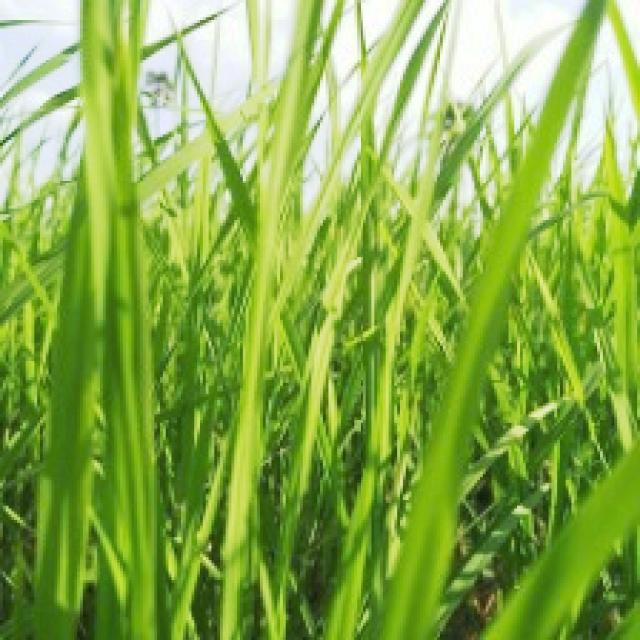health: (24, 152, 634, 640)
